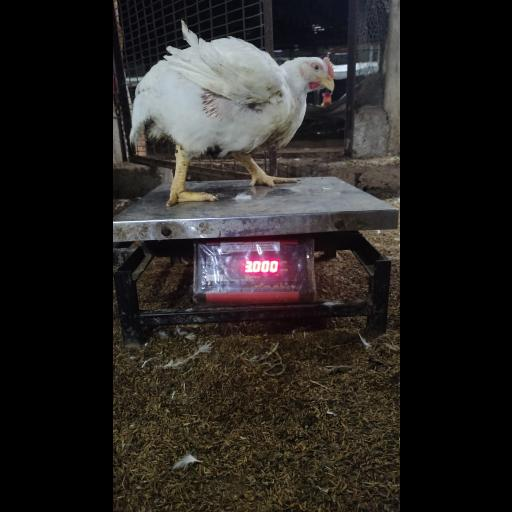chick: (131, 22, 336, 206)
